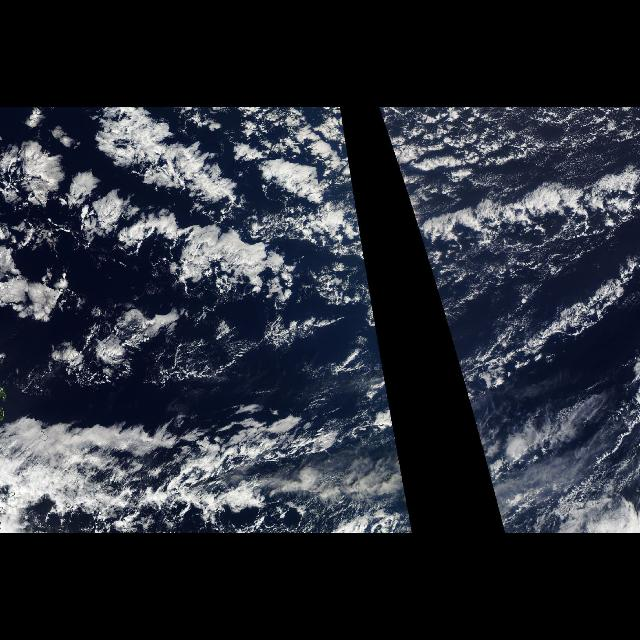Fish: (2, 107, 368, 357)
Flower: (14, 122, 356, 384)
Sugar: (419, 107, 639, 209)
